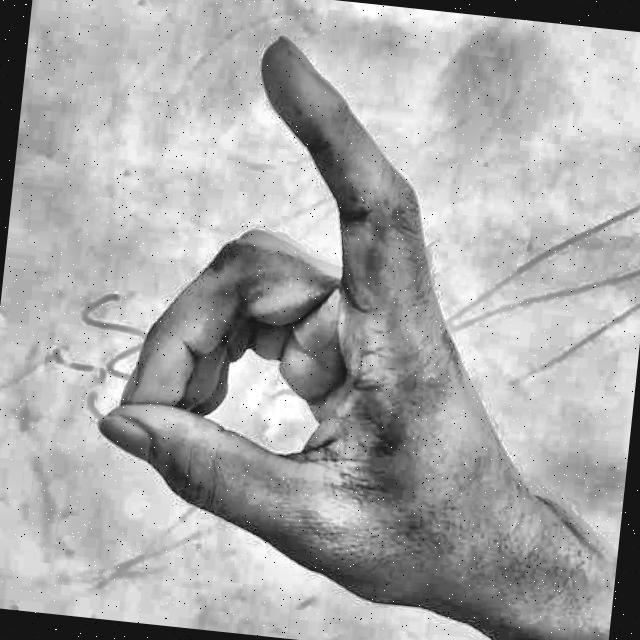Dha: (69, 0, 587, 640)
